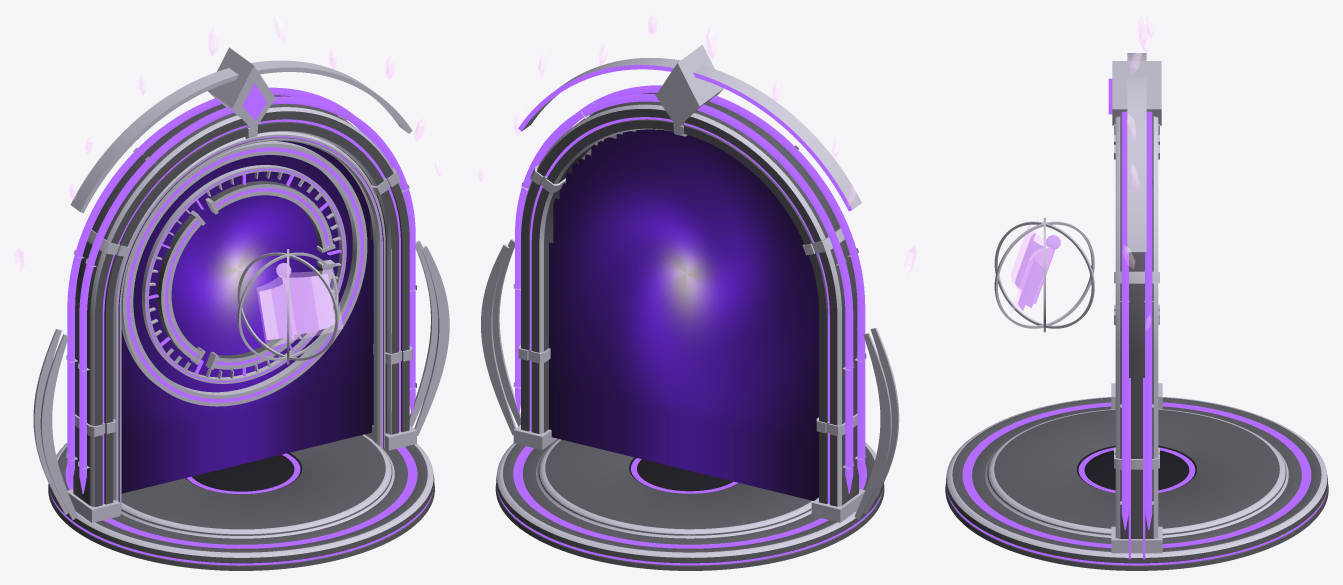
Rendered from Portal_Knowledge_web.glb.
3 views of the same model, side by side, from view 1: azimuth 30°, elevation 25°; view 2: azimuth 150°, elevation 25°; view 3: azimuth 270°, elevation 25° (orthographic).
Visible parts, largest first — view 1: Portal_Knowledge_Membrane, Portal_Knowledge_Frame, Portal_Knowledge_Base, Portal_Knowledge, Portal_Knowledge_Details, Portal_Knowledge_Conduits, Portal_Knowledge_Symbol_Core, Portal_Knowledge_Symbol, Portal_Knowledge_Symbol_Cage, Portal_Knowledge_Accents; view 2: Portal_Knowledge_Membrane, Portal_Knowledge_Base, Portal_Knowledge_Frame, Portal_Knowledge_Details, Portal_Knowledge_Conduits, Portal_Knowledge_Accents; view 3: Portal_Knowledge_Base, Portal_Knowledge_Frame, Portal_Knowledge_Conduits, Portal_Knowledge_Details, Portal_Knowledge_Symbol_Cage, Portal_Knowledge_Symbol_Core, Portal_Knowledge_Accents, Portal_Knowledge_Symbol.
Part boxes in pixels (bbox=[...]): Portal_Knowledge_Membrane: bbox=[121, 140, 373, 493]; Portal_Knowledge_Frame: bbox=[73, 47, 412, 510]; Portal_Knowledge_Base: bbox=[48, 434, 434, 570]; Portal_Knowledge: bbox=[121, 141, 367, 406]; Portal_Knowledge_Details: bbox=[33, 60, 449, 522]; Portal_Knowledge_Conduits: bbox=[67, 87, 415, 493]; Portal_Knowledge_Symbol_Core: bbox=[259, 263, 335, 339]; Portal_Knowledge_Symbol: bbox=[257, 269, 342, 346]; Portal_Knowledge_Symbol_Cage: bbox=[237, 249, 338, 364]; Portal_Knowledge_Accents: bbox=[14, 14, 441, 271]; Portal_Knowledge_Membrane: bbox=[549, 129, 818, 500]; Portal_Knowledge_Base: bbox=[495, 439, 884, 570]; Portal_Knowledge_Frame: bbox=[518, 45, 859, 506]; Portal_Knowledge_Details: bbox=[481, 58, 899, 522]; Portal_Knowledge_Conduits: bbox=[515, 85, 865, 493]; Portal_Knowledge_Accents: bbox=[478, 14, 916, 275]; Portal_Knowledge_Base: bbox=[945, 397, 1328, 570]; Portal_Knowledge_Frame: bbox=[1108, 61, 1161, 538]; Portal_Knowledge_Conduits: bbox=[1121, 111, 1152, 530]; Portal_Knowledge_Details: bbox=[1111, 53, 1162, 559]; Portal_Knowledge_Symbol_Cage: bbox=[994, 218, 1094, 332]; Portal_Knowledge_Symbol_Core: bbox=[1015, 233, 1060, 310]; Portal_Knowledge_Accents: bbox=[1122, 14, 1153, 331]; Portal_Knowledge_Symbol: bbox=[1011, 225, 1053, 312].
Bounding box in the file's own units: 8.27 × 8.63 × 6.44.
Materials: 7 (1 with a texture image).
